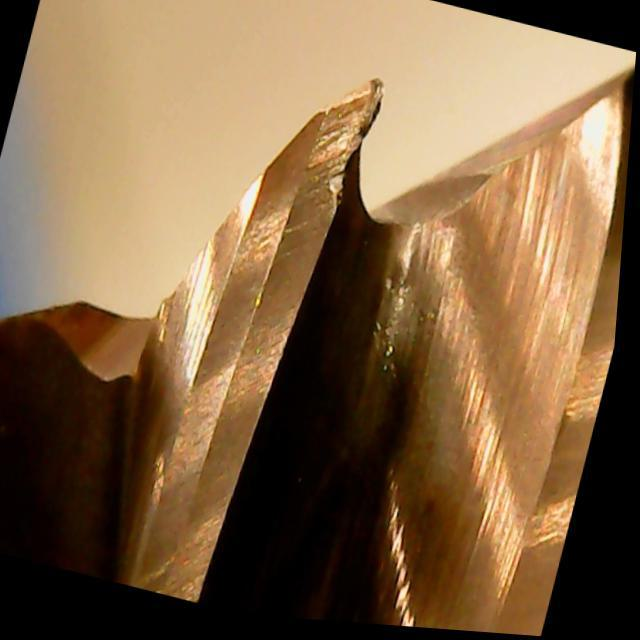Tool-wear-class-2: (209, 43, 405, 374)
